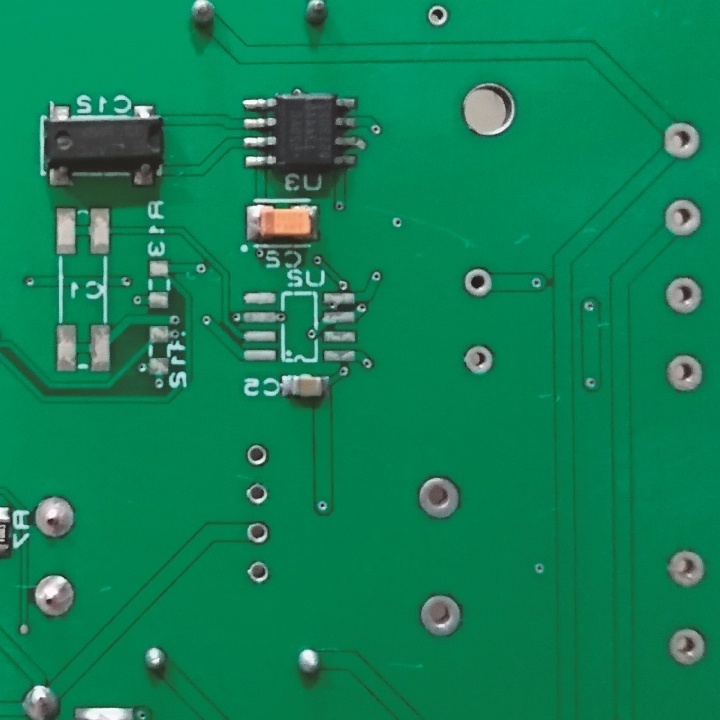F: (30, 492, 79, 539), (416, 592, 465, 638), (30, 572, 81, 615), (416, 473, 461, 521), (659, 121, 706, 163), (661, 195, 704, 238), (664, 272, 704, 318), (665, 546, 707, 589), (667, 625, 710, 667), (665, 353, 706, 392), (461, 343, 496, 378), (463, 264, 494, 299), (244, 442, 272, 469), (244, 519, 272, 546), (245, 559, 273, 586), (244, 481, 273, 506), (425, 3, 453, 28)
